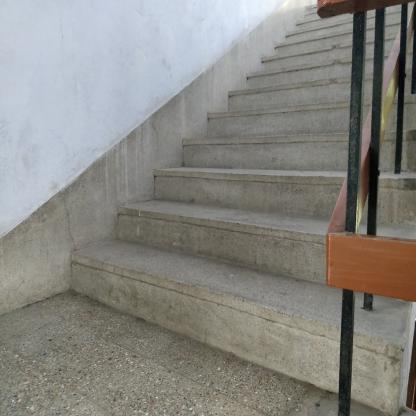stairs: (233, 102, 321, 397)
